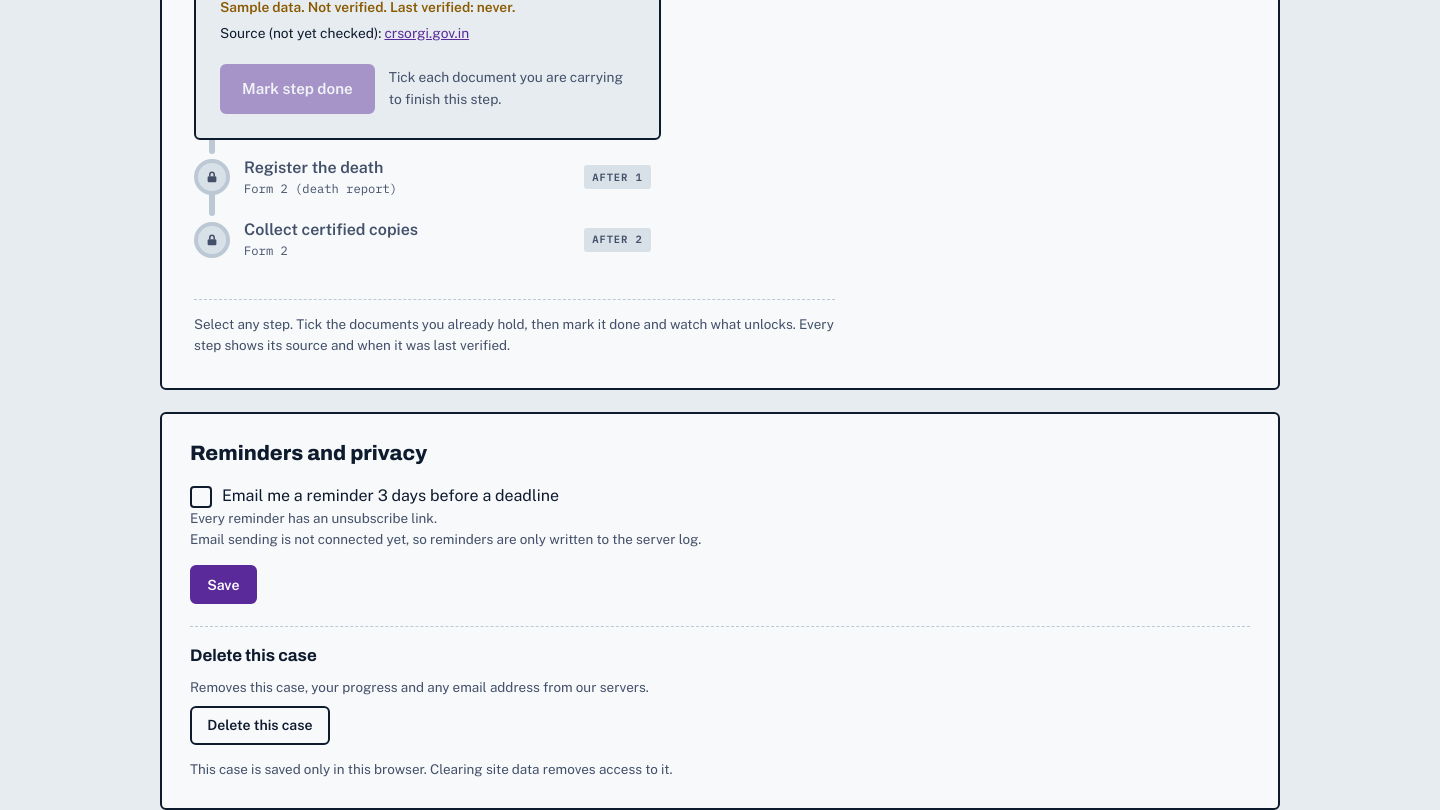
Test: CasePage: the full route view › asks for an email when the visitor opts in, and says the email is only logged for now
The width and height of the screenshot is (1440, 810).
(page scrolled)
Step 1. Click the checkbox labelled "Email me a reminder 3 days before a deadline" → [201, 497], box [190, 486, 212, 508]
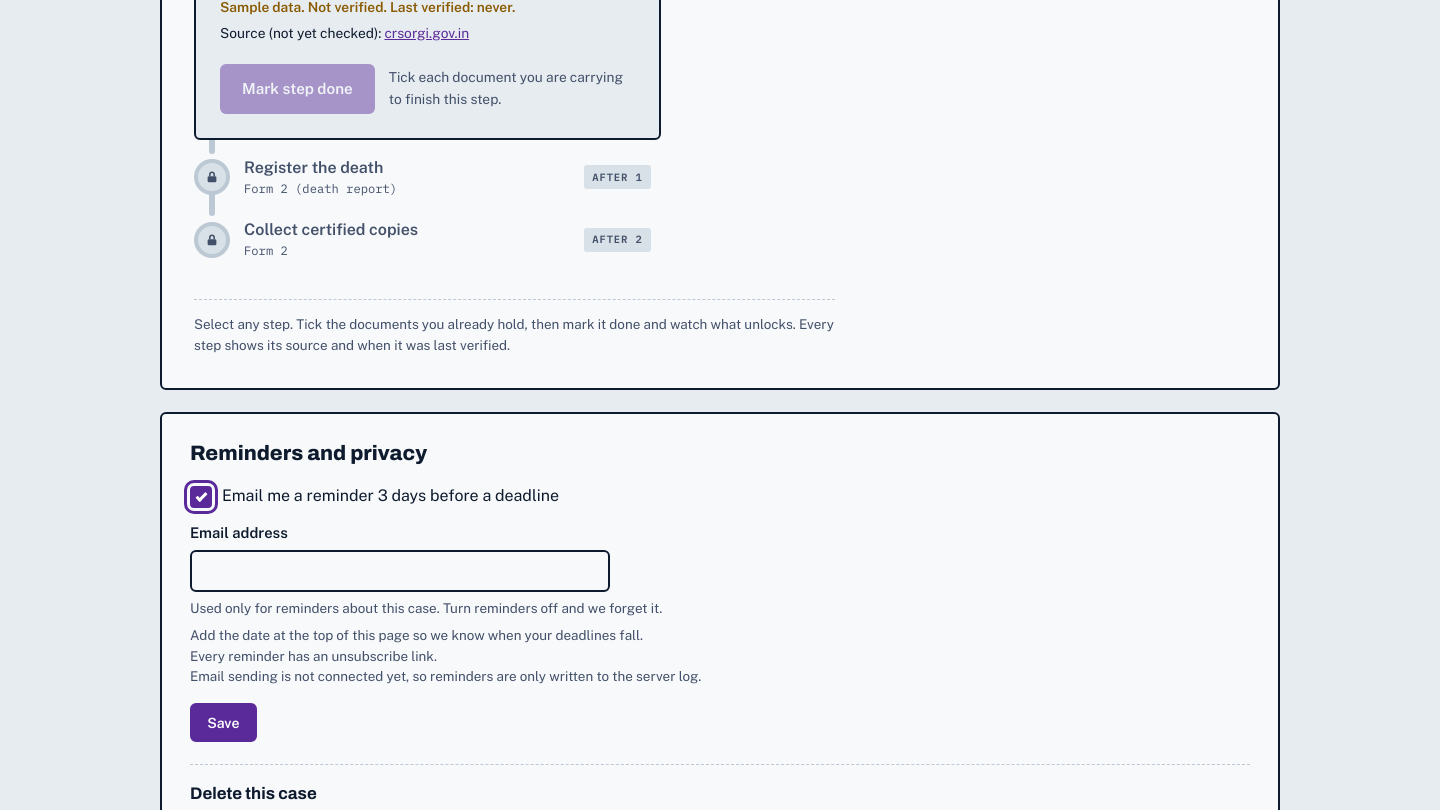
Check: the text "reminders are only written to the server log" is shown, box [190, 668, 701, 684]
Check: the text "Add the date at the top of this page" is shown, box [190, 627, 643, 643]
